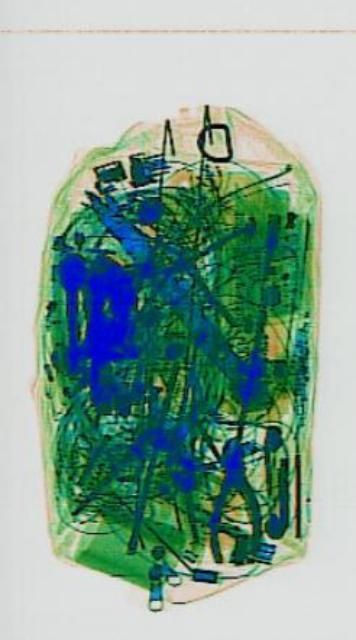Pliers: (132, 201, 254, 323), (202, 431, 260, 563)
